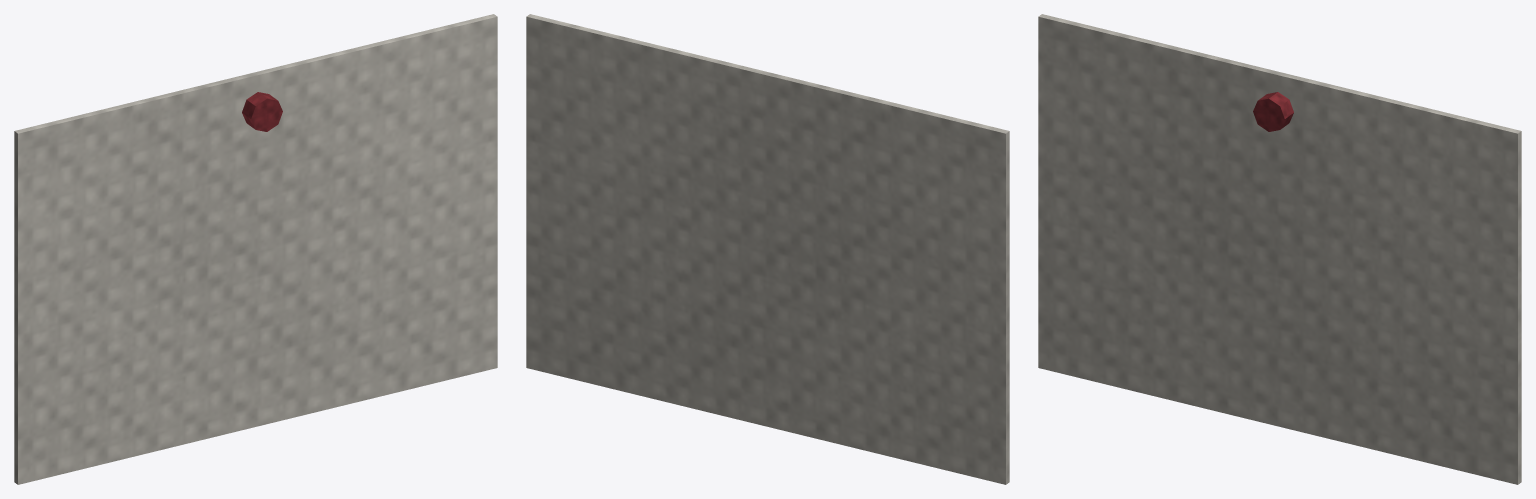
File: PRP_Nota.fbx
The picture shows the model from 3 angles, left to right: view 1: azimuth 30°, elevation 25°; view 2: azimuth 150°, elevation 25°; view 3: azimuth 330°, elevation 25°; orthographic projection.
Visible parts, largest first — view 1: PRP_Nota; view 2: PRP_Nota; view 3: PRP_Nota.
Boxes of the visible parts, <box> form: PRP_Nota: <box>14,14,497,484</box>; PRP_Nota: <box>526,14,1009,484</box>; PRP_Nota: <box>1038,14,1521,484</box>.
Bounding box in the file's own units: 0.3 × 0.21 × 0.014.
